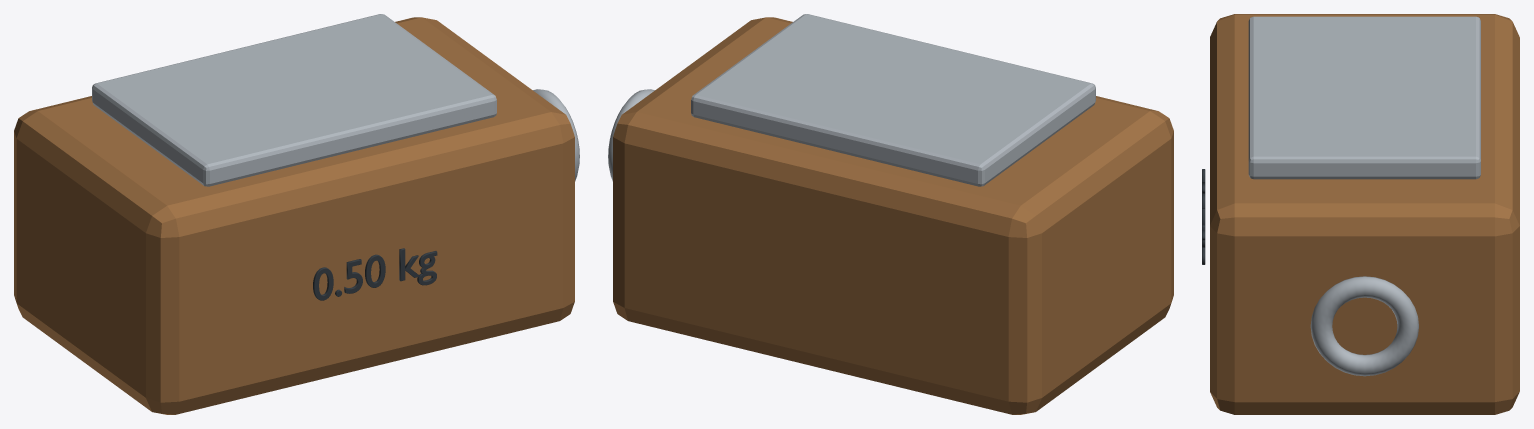
The model's file is Physics_Friction_Block.fbx.
The picture shows the model from 3 angles, left to right: view 1: azimuth 30°, elevation 25°; view 2: azimuth 150°, elevation 25°; view 3: azimuth 270°, elevation 25°; orthographic projection.
Parts seen in each view (by area): view 1: FrictionBlock, MassTray, MassLabel, ForceAttachmentEye; view 2: FrictionBlock, MassTray, ForceAttachmentEye; view 3: FrictionBlock, MassTray, ForceAttachmentEye, MassLabel.
Part boxes in pixels (left/top/right/bottom): FrictionBlock: left=14, top=17, right=574, bottom=414; MassTray: left=92, top=14, right=496, bottom=186; MassLabel: left=313, top=248, right=437, bottom=300; ForceAttachmentEye: left=533, top=89, right=579, bottom=181; FrictionBlock: left=613, top=17, right=1173, bottom=414; MassTray: left=691, top=14, right=1095, bottom=186; ForceAttachmentEye: left=608, top=89, right=654, bottom=181; FrictionBlock: left=1210, top=14, right=1519, bottom=414; MassTray: left=1248, top=16, right=1480, bottom=179; ForceAttachmentEye: left=1310, top=276, right=1418, bottom=376; MassLabel: left=1202, top=169, right=1205, bottom=264.
Size of the model in its own units: 0.1783 by 0.083 by 0.1025.
